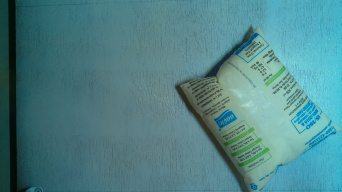m: (176, 23, 341, 190)
